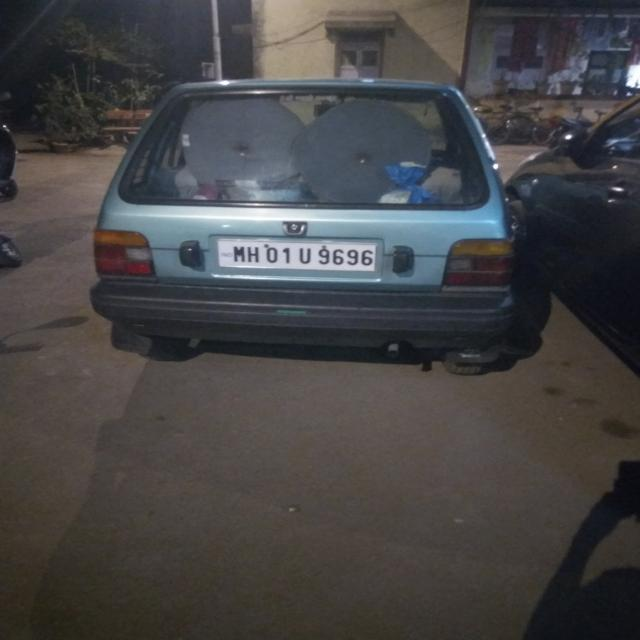Number-Plate: (225, 238, 376, 272)
